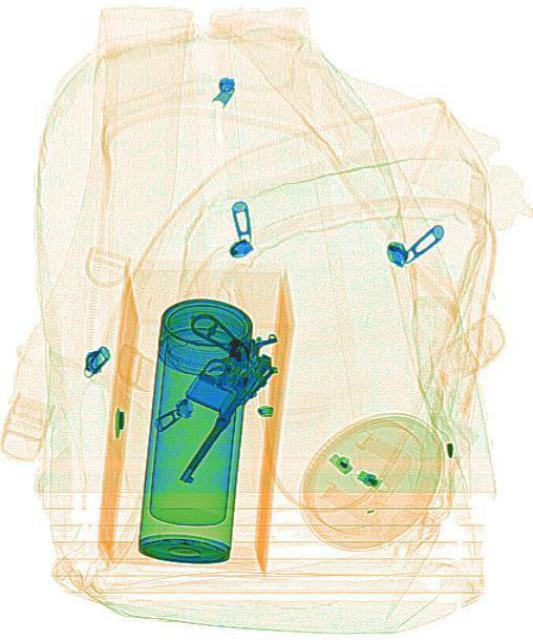Gun: (114, 297, 281, 489)
